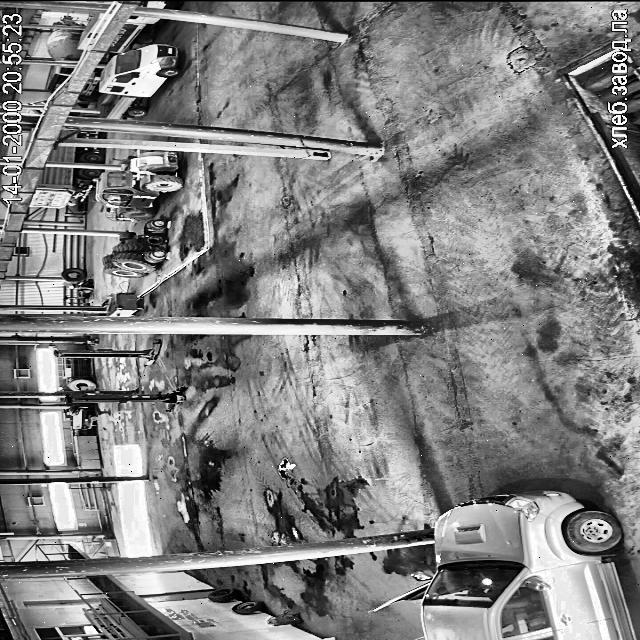class6: (96, 152, 182, 220), (102, 220, 165, 278)
class7: (100, 44, 180, 119), (28, 167, 100, 208), (108, 16, 158, 52), (46, 29, 82, 60), (48, 146, 102, 163), (79, 12, 102, 48), (78, 68, 99, 102), (45, 66, 73, 91), (140, 0, 179, 8), (77, 132, 97, 140), (60, 130, 69, 136)
mechanic: (375, 490, 636, 640)
tractor: (268, 615, 300, 624)
truck: (66, 387, 186, 411), (53, 340, 161, 365)
